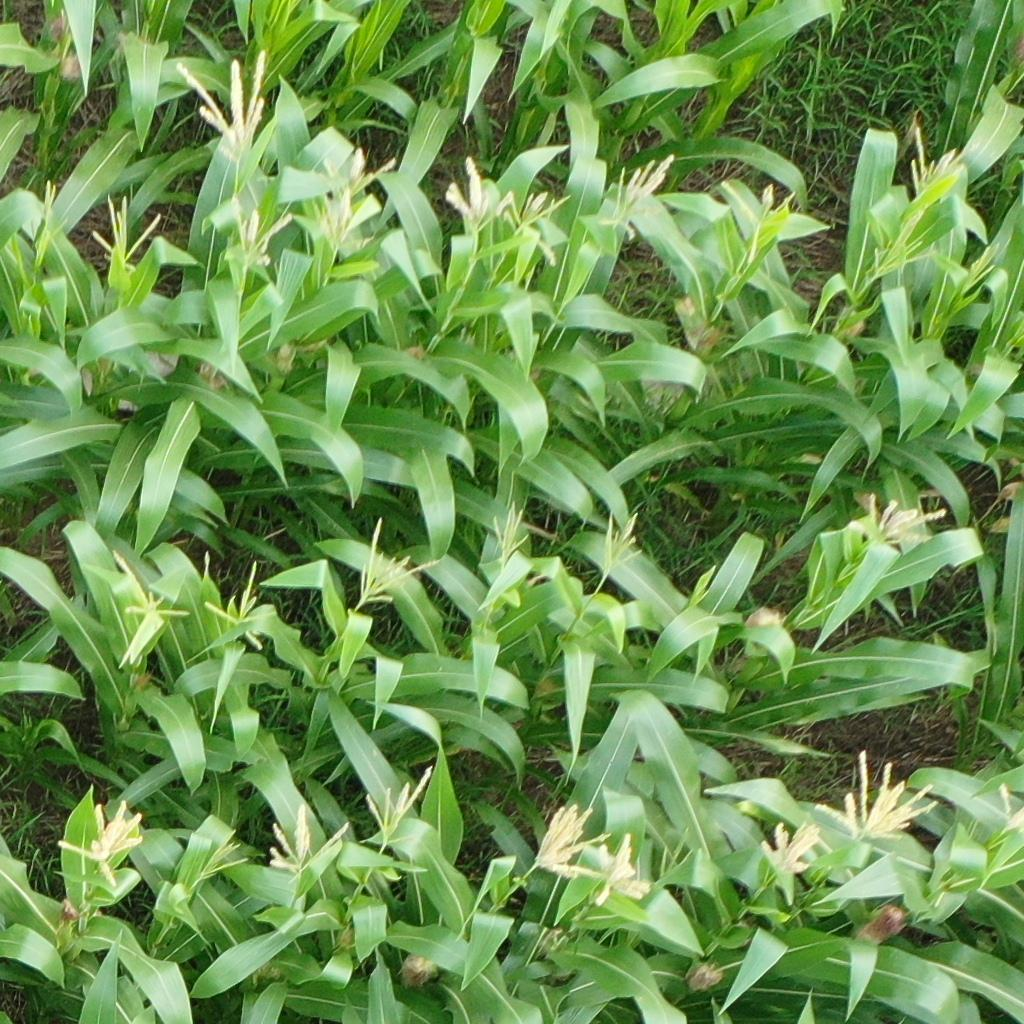Tassel: (816, 747, 941, 841), (172, 52, 269, 163), (351, 517, 441, 609), (58, 800, 145, 889), (596, 153, 679, 242), (719, 177, 796, 268), (203, 559, 278, 650), (362, 762, 435, 851), (89, 193, 166, 274), (534, 804, 610, 884), (847, 491, 949, 550), (112, 552, 190, 627), (266, 804, 349, 872), (444, 157, 516, 233), (508, 189, 572, 268), (909, 128, 978, 200), (229, 197, 295, 272), (592, 831, 653, 910), (313, 146, 398, 202), (874, 206, 936, 278), (312, 186, 372, 254), (758, 815, 823, 877), (489, 502, 533, 566), (196, 830, 247, 882), (603, 510, 644, 574), (657, 824, 695, 883), (960, 241, 999, 293), (998, 787, 1024, 835), (42, 179, 59, 225)
